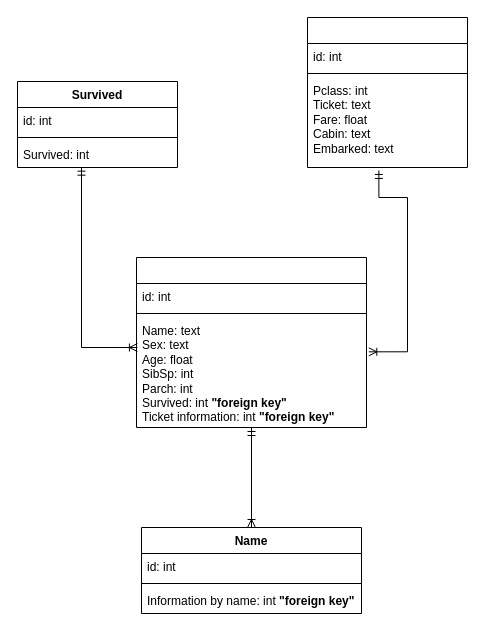
The diagram is 485 pixels wide and 634 high, and some of its shapes have lost their labels. Each missing label, with the box of its shape:
Information by name: (136, 256, 366, 428)
Ticket information: (306, 16, 468, 168)
